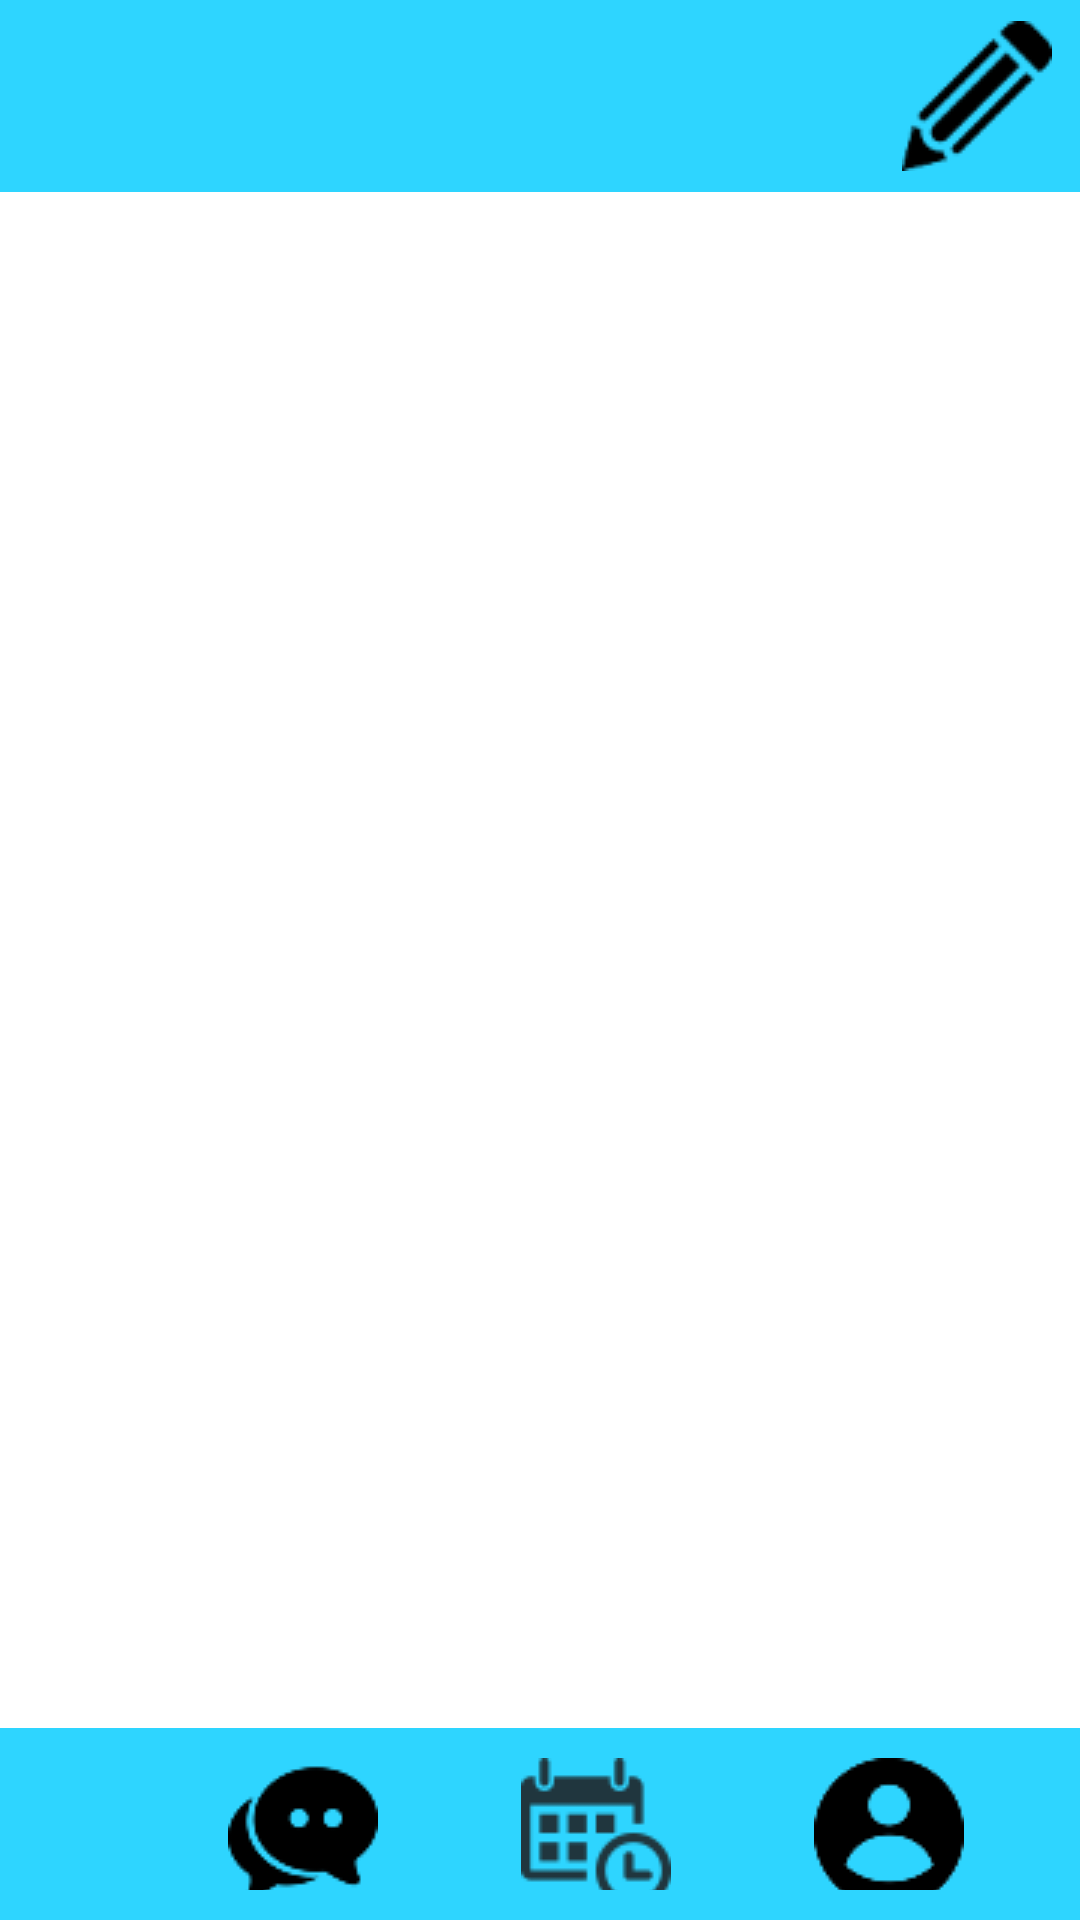

Icons on this 1080 x 1920 Android screen, each with its box as region(x1, y1, x2, y2):
chat: region(228, 1766, 378, 1890)
myproflile: region(814, 1758, 964, 1890)
reservation: region(521, 1758, 671, 1890)
write: region(902, 21, 1052, 171)
